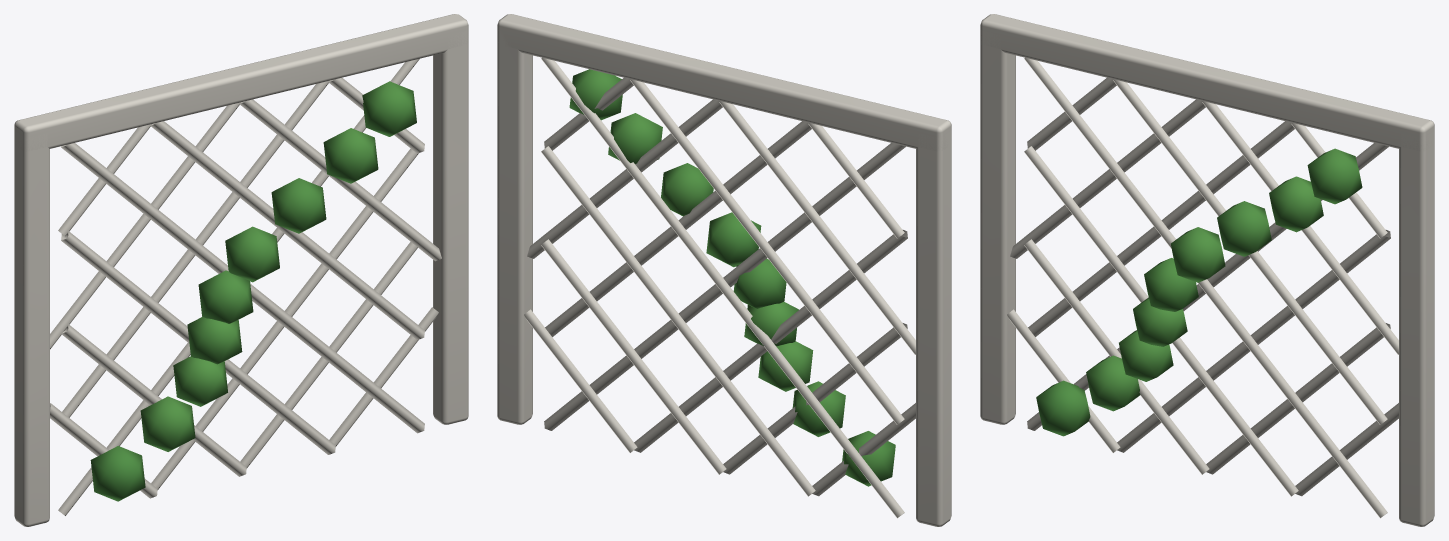
Rendered from furn_od_fence_lattice.glb.
3 views of the same model, side by side, from view 1: azimuth 30°, elevation 25°; view 2: azimuth 150°, elevation 25°; view 3: azimuth 330°, elevation 25° (orthographic).
Parts seen in each view (by area): view 1: furn_od_fence_lattice_main; view 2: furn_od_fence_lattice_main; view 3: furn_od_fence_lattice_main.
Boxes of the visible parts, <box> form: furn_od_fence_lattice_main: <box>14,14,468,526</box>; furn_od_fence_lattice_main: <box>497,14,951,526</box>; furn_od_fence_lattice_main: <box>980,14,1434,526</box>.
Size of the model in its own units: 1 by 0.8685 by 0.116.
